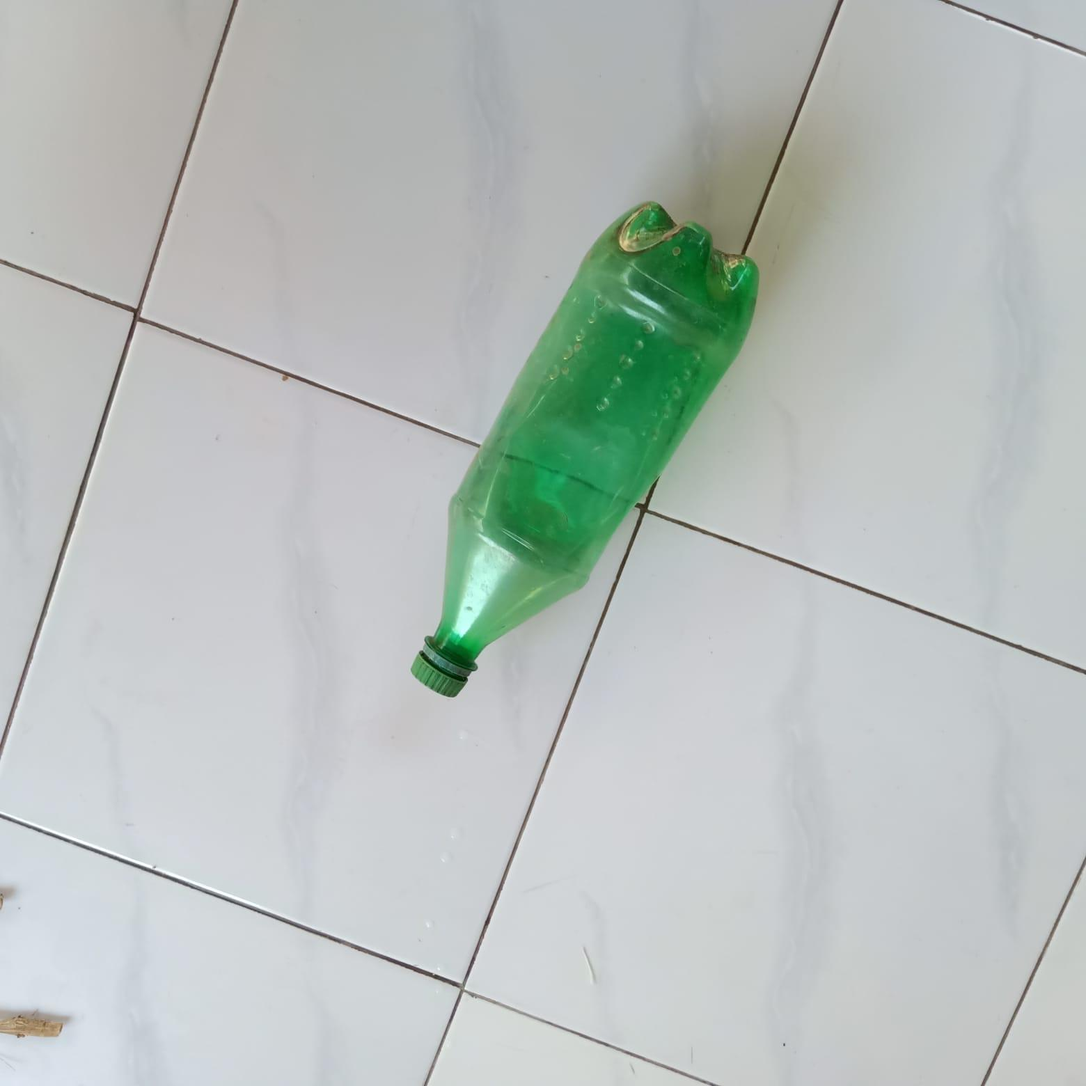Plastik: (408, 200, 762, 698)
